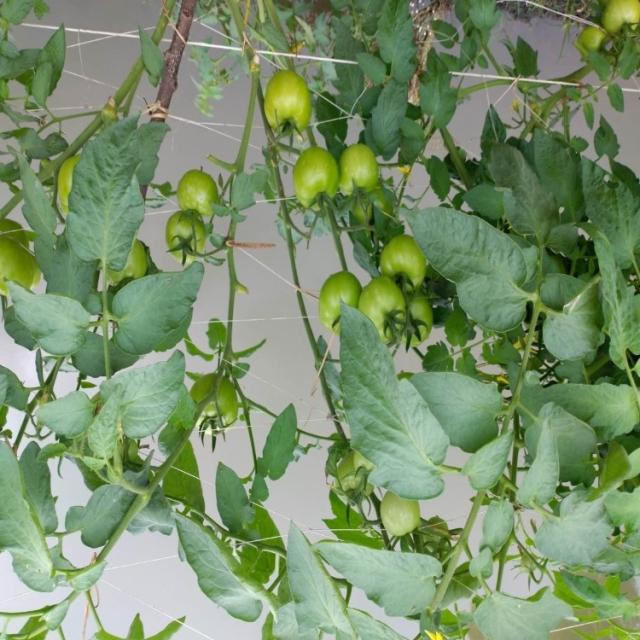tomato: (266, 75, 322, 142), (353, 280, 410, 340), (370, 239, 429, 295), (314, 275, 367, 337), (196, 367, 245, 430), (293, 150, 341, 212), (341, 138, 382, 208), (165, 213, 214, 265), (4, 237, 43, 301), (377, 491, 423, 541), (177, 169, 221, 219), (591, 1, 640, 40), (399, 292, 433, 347)
